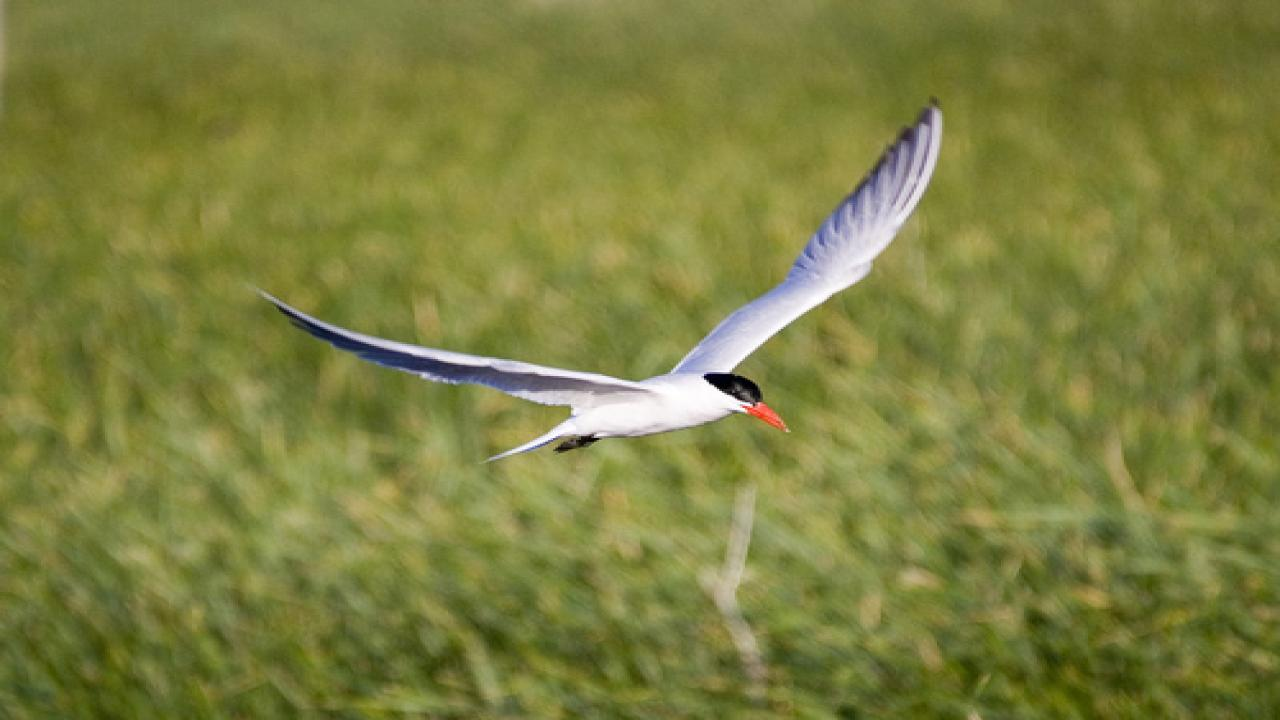Bird: (232, 85, 958, 476)
